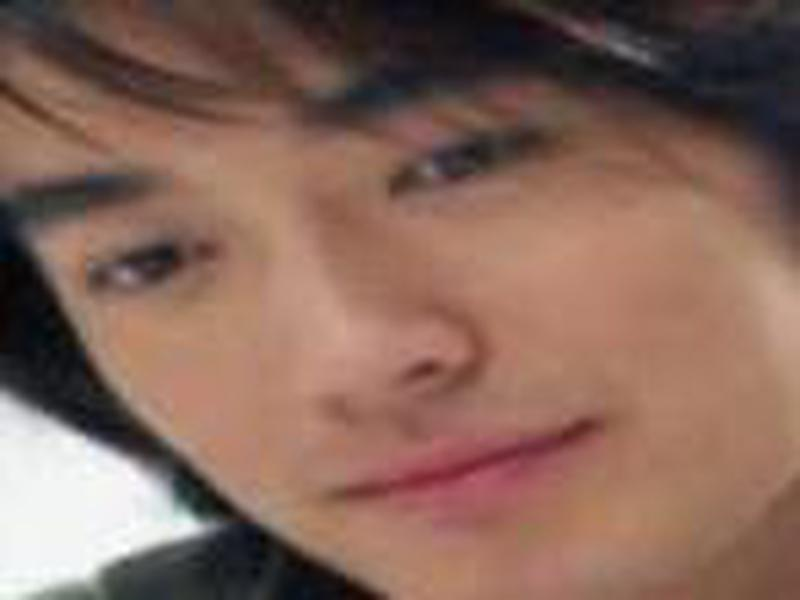without_mask: (4, 44, 783, 600)
